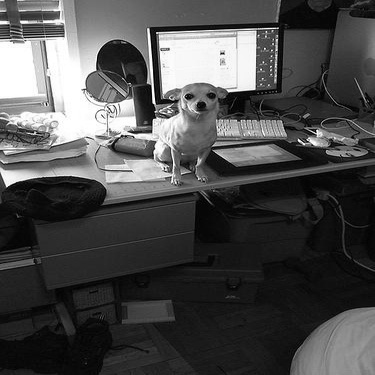dog: (150, 79, 232, 188)
